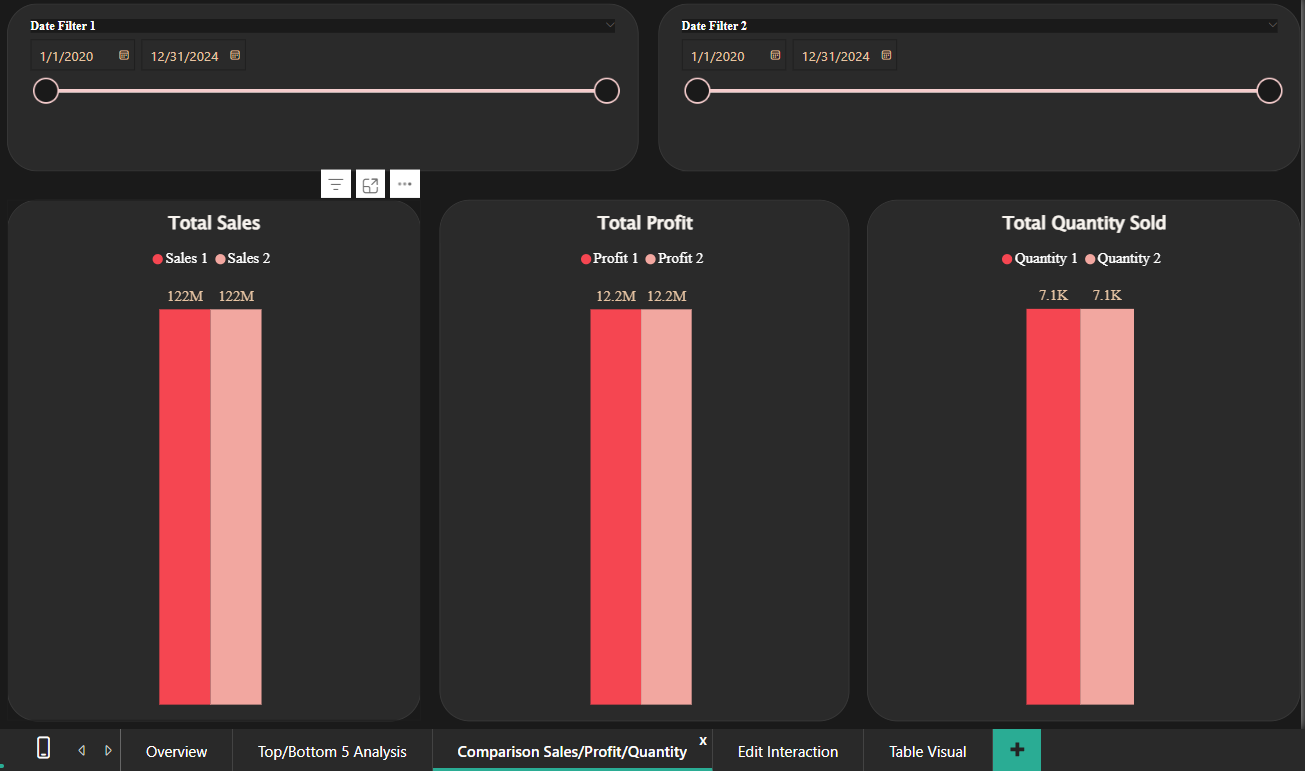

This screenshot's page, from the dashboard's own definition file:
{"tool":"powerbi","page":{"name":"Comparison Sales/Profit/Quantity","canvas":[1280,720],"ordinal":2},"visuals":[{"type":"slicer","fields":{"Values":["Date Table 1.Date"]},"box":[9.8,7.4,619.6,164.4],"z":0},{"type":"slicer","fields":{"Values":["Date Table 2.Date"]},"box":[649.1,7.4,630.7,164.4],"z":1000},{"type":"clusteredColumnChart","title":"Total Sales","fields":{"Y":["Sum(Fact Table.Net Sales)","Date Table 1.Sum of Net Sales"]},"box":[9.8,200,406.1,511.7],"z":2000},{"type":"clusteredColumnChart","title":"Total Profit","fields":{"Y":["Sum(Fact Table.Profit)","Measures Table.Total profit"]},"box":[434.4,200,402.5,511.7],"z":3000},{"type":"clusteredColumnChart","title":"Total Quantity Sold","fields":{"Y":["Sum(Fact Table.Units Sold)","Measures Table.Quantity Sold"]},"box":[854,200,425.8,511.7],"z":4000}]}

Visuals, with their boxes on the page's 1280x720 design canvas (x1, y1, x2, y2). These are canvas units, not pixel positions in the 1305x771 screenshot, which may show the page scaled, cropped or inside an application window:
slicer - Date Table 1.Date: bbox=[10, 7, 629, 172]
slicer - Date Table 2.Date: bbox=[649, 7, 1280, 172]
"Total Sales" clusteredColumnChart: bbox=[10, 200, 416, 712]
"Total Profit" clusteredColumnChart: bbox=[434, 200, 837, 712]
"Total Quantity Sold" clusteredColumnChart: bbox=[854, 200, 1280, 712]
